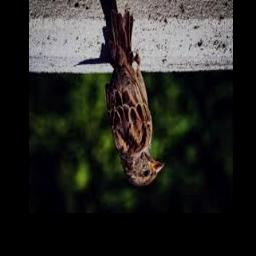Sparrow: (104, 9, 163, 188)
